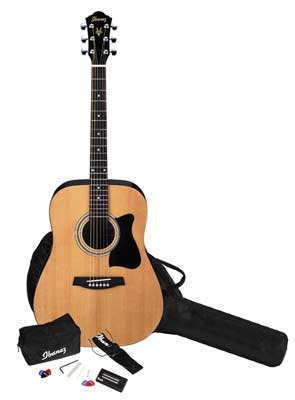guitar: (33, 10, 165, 348)
